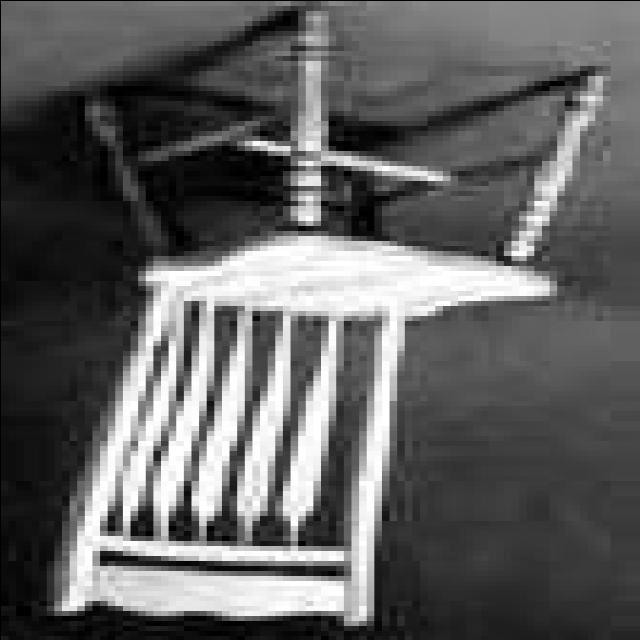chair: (48, 2, 612, 624)
